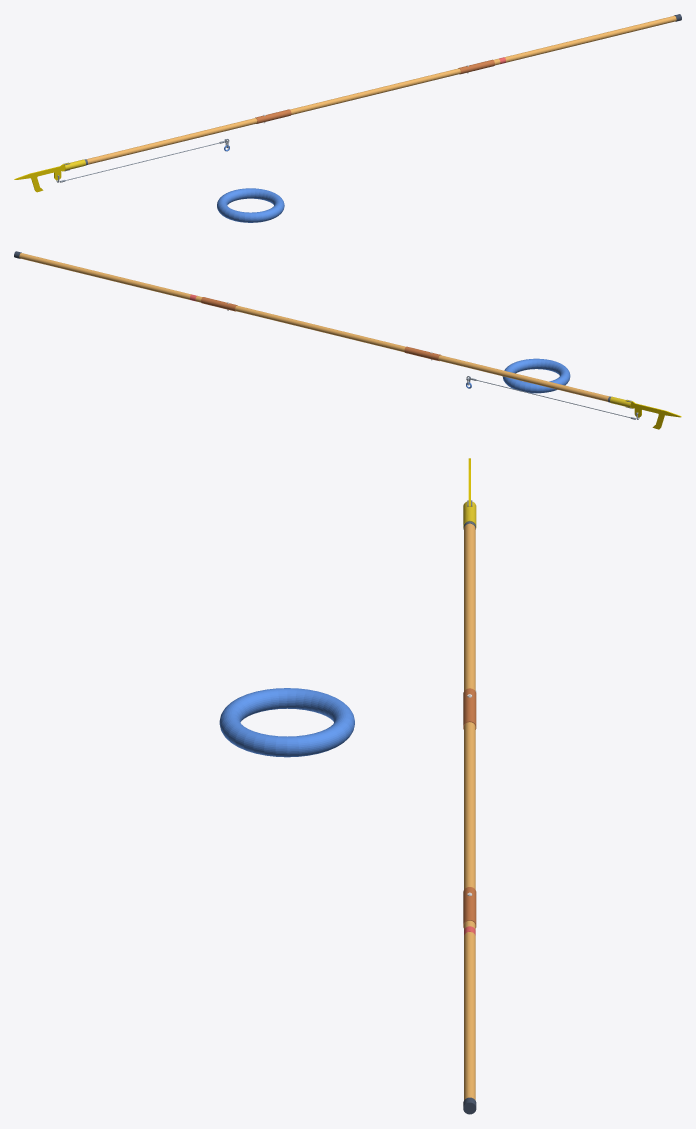
3 views of the same model, one above another, from view 1: azimuth 30°, elevation 25°; view 2: azimuth 150°, elevation 25°; view 3: azimuth 270°, elevation 25° (orthographic). The views are drawn at different scales.
Visible parts, largest first — view 1: Pole sections (3) (×3), Pull rope coil, Hook plate; view 2: Pole sections (3) (×3), Pull rope coil, Hook plate; view 3: Pole sections (3) (×3), Pull rope coil.
Boxes of the visible parts, <box> form: Pole sections (3) (×3): <box>86,15,676,164</box>; Pull rope coil: <box>217,188,284,222</box>; Hook plate: <box>14,163,69,192</box>; Pole sections (3) (×3): <box>19,253,609,401</box>; Pull rope coil: <box>502,358,570,393</box>; Hook plate: <box>626,400,681,429</box>; Pole sections (3) (×3): <box>464,523,475,1099</box>; Pull rope coil: <box>219,688,354,757</box>.
Size of the model in its own units: 5.9 by 0.4034 by 0.9854.
